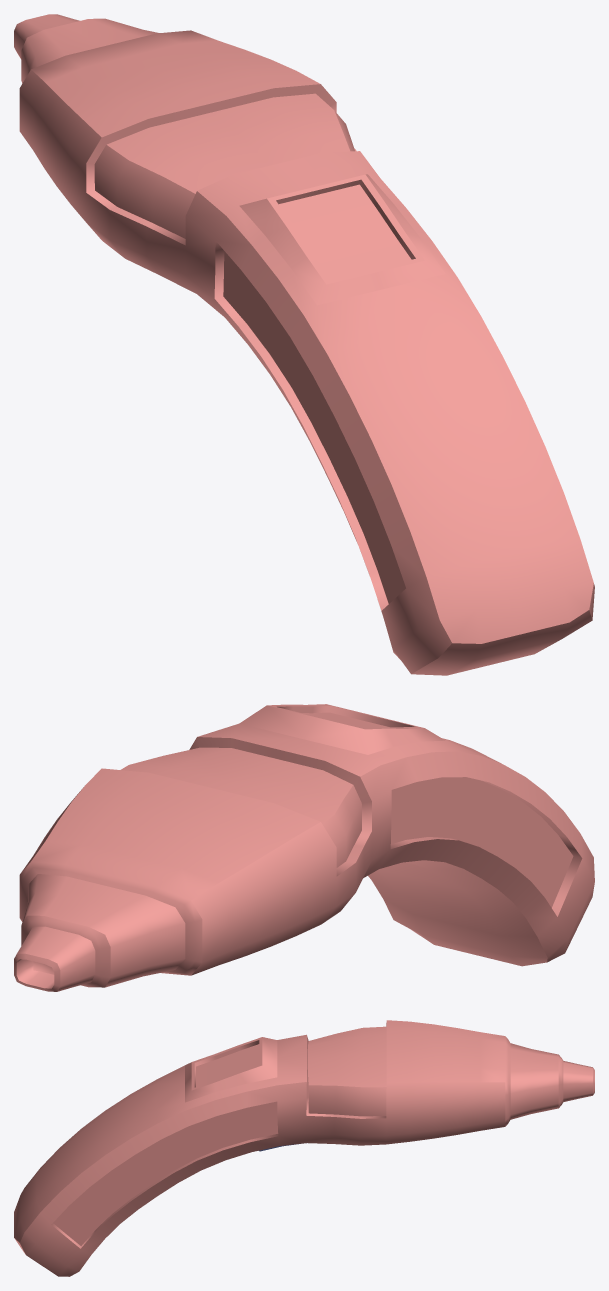
File: Phaser Prefab2.FBX
3 views of the same model, one above another, from view 1: azimuth 30°, elevation 25°; view 2: azimuth 150°, elevation 25°; view 3: azimuth 270°, elevation 25° (orthographic). The views are drawn at different scales.
Parts seen in each view (by area): view 1: Type 1 Phaser001; view 2: Type 1 Phaser001; view 3: Type 1 Phaser001.
Boxes of the visible parts, x1,y1,x2,y2 form: Type 1 Phaser001: (14,14,594,675); Type 1 Phaser001: (14,704,594,991); Type 1 Phaser001: (14,1020,594,1276).
Size of the model in its own units: 33.59 by 46.51 by 114.
